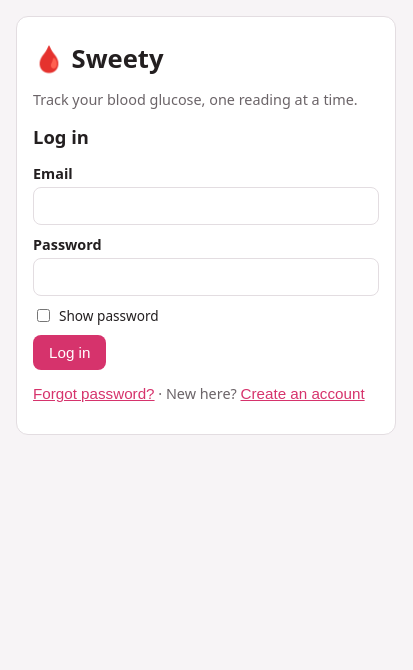
Test: signup rejects a weak password
Click the button "Create an account".
click(303, 394)  # box [240,385,365,402]
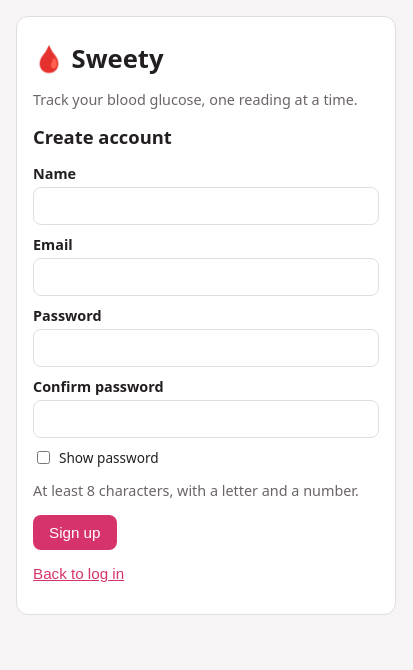
Type "Asha" into the field labelled "Name".
click(206, 206); type("Asha")  # box [33,187,379,225]
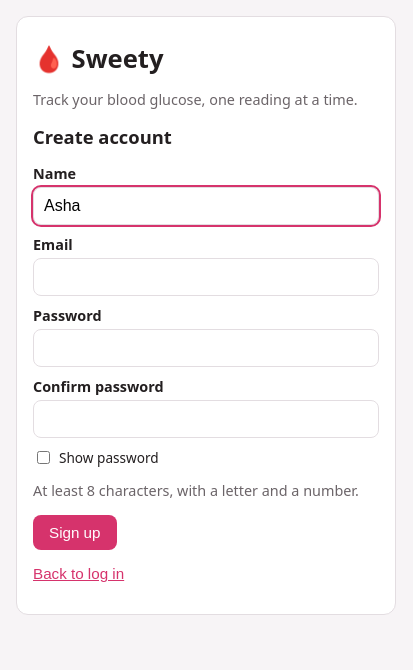
Type "a@test.com" into the field labelled "Email".
click(206, 277); type("a@test.com")  # box [33,258,379,296]
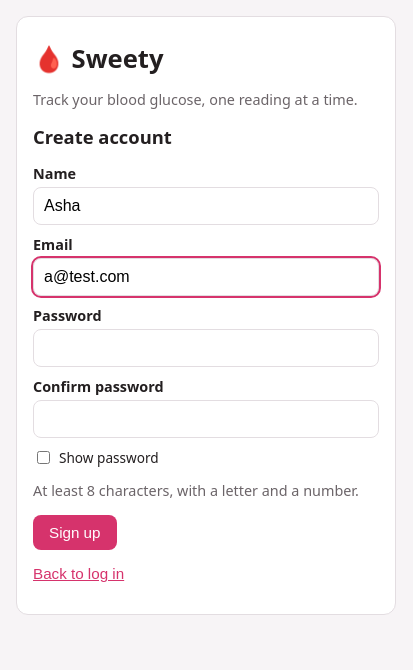
Type "abcdefgh" into the password field labelled "Password".
click(206, 348); type("abcdefgh")  # box [33,329,379,367]
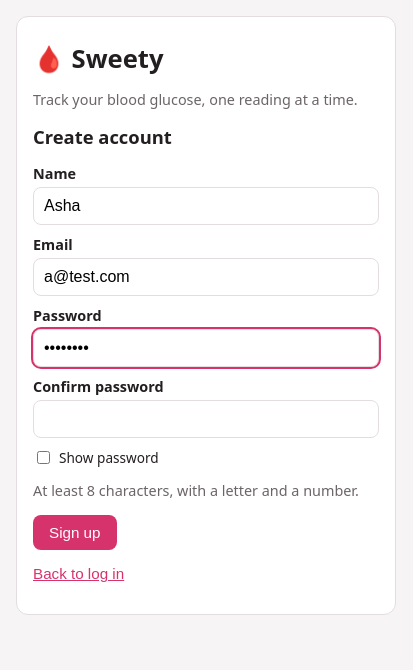
Type "abcdefgh" into the password field labelled "Confirm password".
click(206, 419); type("abcdefgh")  # box [33,400,379,438]
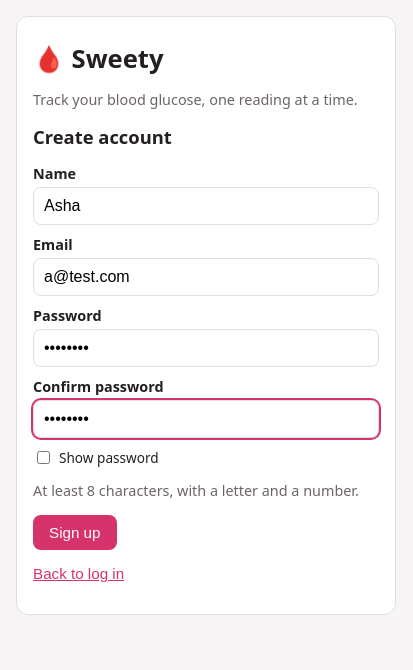
Click the button "Sign up".
click(75, 532)  # box [33,515,116,550]
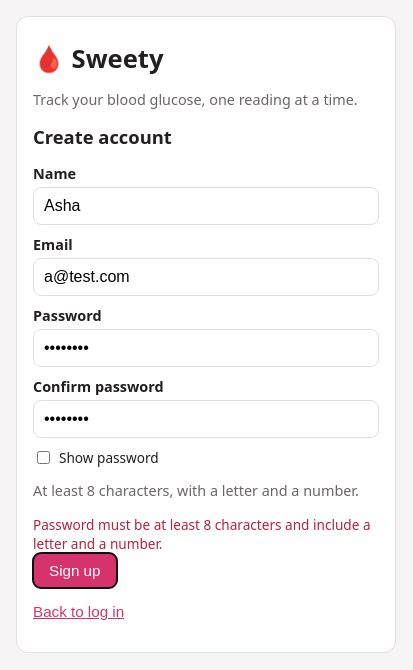
Expected: the message shows "letter and a number", [33,515,370,553]
